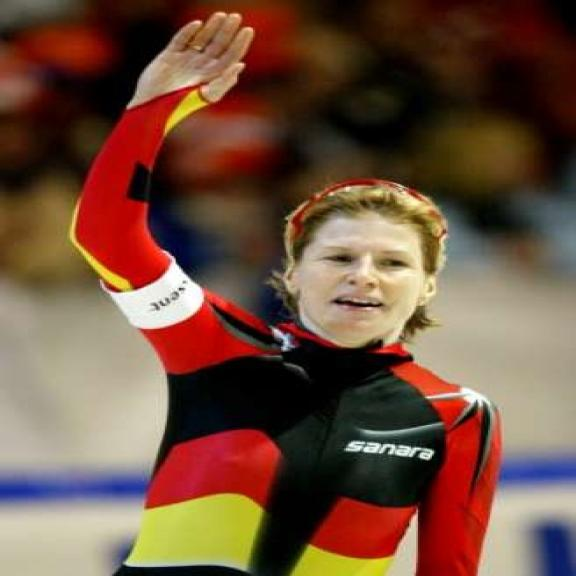face: (284, 209, 448, 349)
